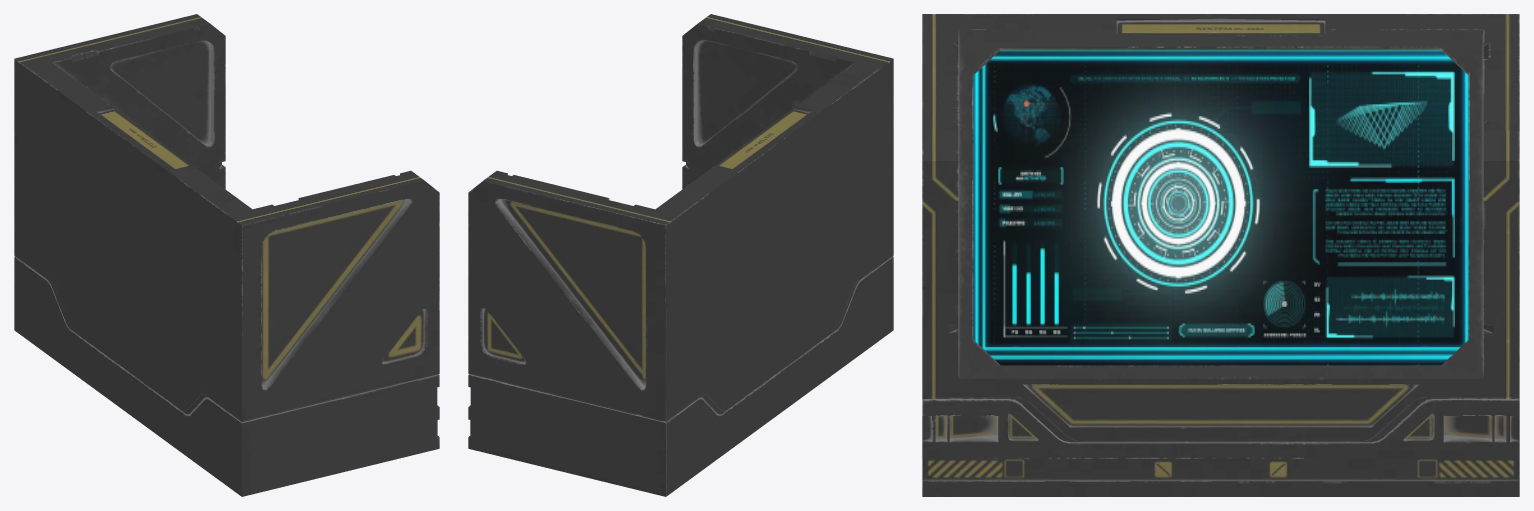
The model's file is c059-opt.glb.
3 renders of one model, left to right at view 1: azimuth 30°, elevation 25°; view 2: azimuth 150°, elevation 25°; view 3: azimuth 270°, elevation 25°, orthographic. The views are drawn at different scales.
Visible parts, largest first — view 1: Cube.059; view 2: Cube.059; view 3: Cube.059.
Part boxes in pixels (left/top/right/bottom): Cube.059: left=14, top=14, right=439, bottom=496; Cube.059: left=468, top=14, right=893, bottom=496; Cube.059: left=922, top=14, right=1519, bottom=496.
Bounding box in the file's own units: 1.53 × 2 × 3.04.
Materials: 1 (1 with a texture image).
